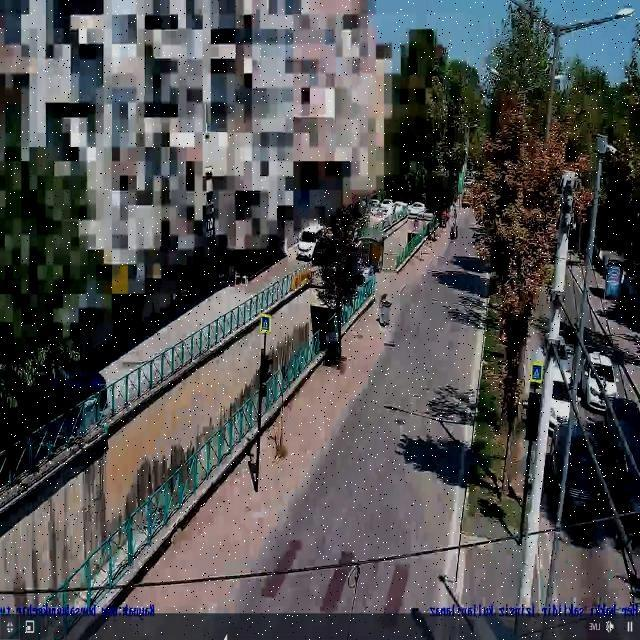Car: (583, 351, 619, 414)
